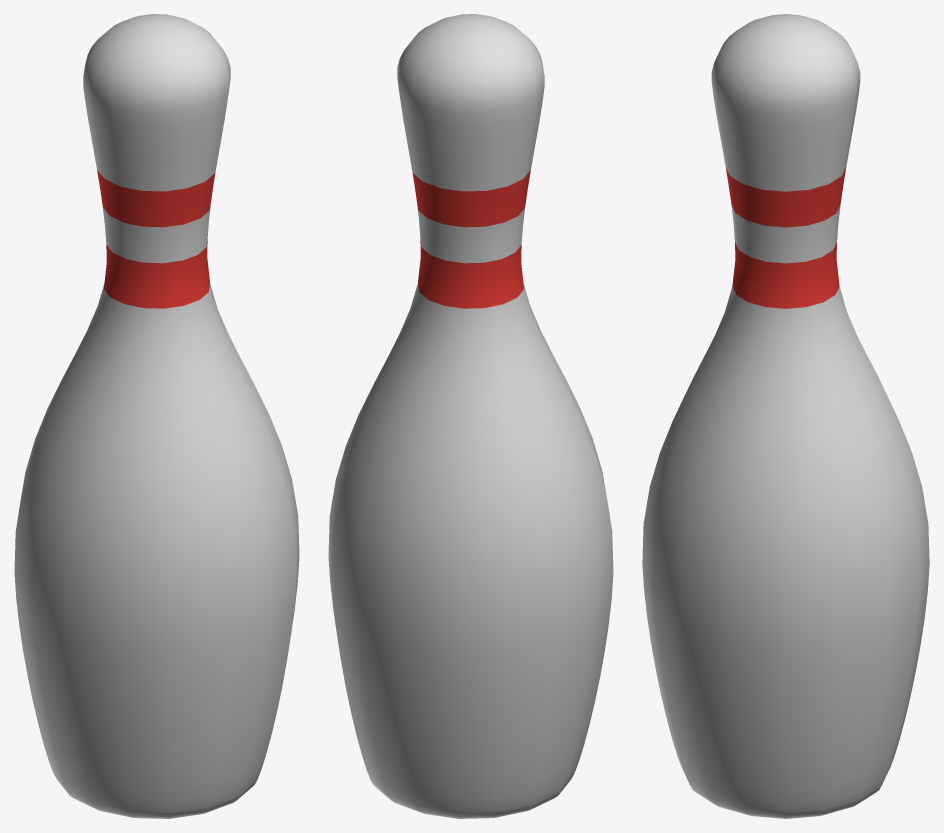
The model's file is pin.glb.
3 renders of one model, left to right at view 1: azimuth 30°, elevation 25°; view 2: azimuth 150°, elevation 25°; view 3: azimuth 270°, elevation 25°, orthographic.
Parts seen in each view (by area): view 1: pinStripe; view 2: pinStripe; view 3: pinStripe.
Boxes of the visible parts, left/top/right/bottom form: pinStripe: left=14, top=14, right=299, bottom=818; pinStripe: left=328, top=14, right=613, bottom=818; pinStripe: left=642, top=14, right=929, bottom=818.
Bounding box in the file's own units: 1.13 × 3.33 × 1.13.
